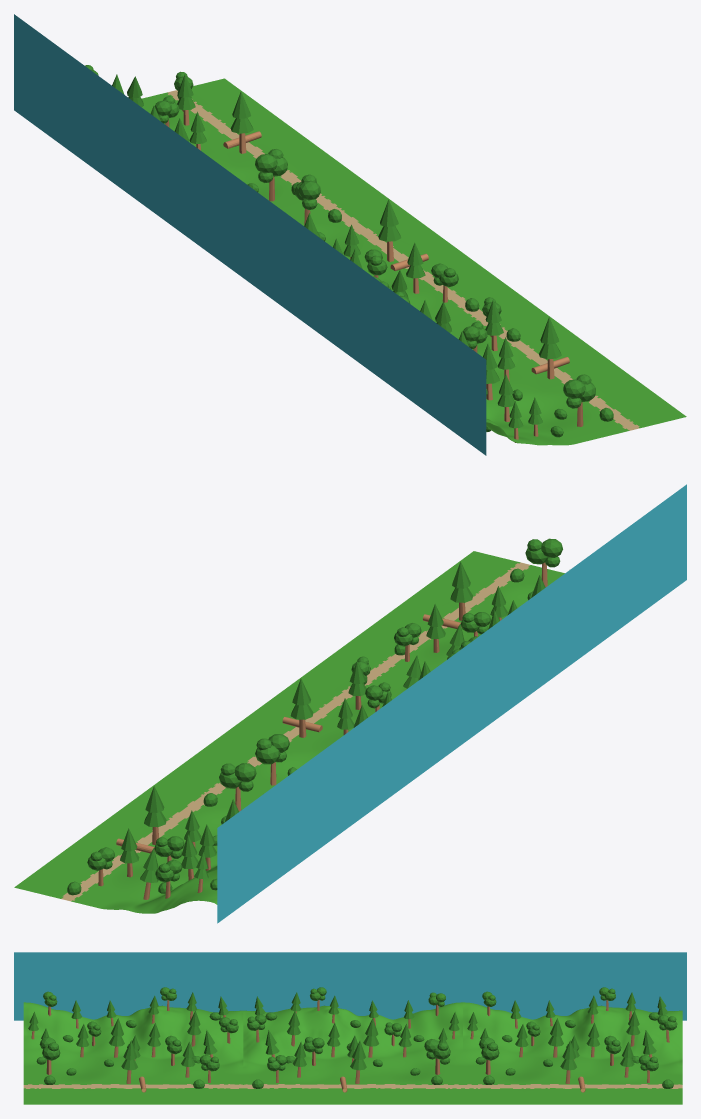
Rendered from TDS-EnvironmentPrototypeFlippedNormals.fbx.
3 renders of one model, top to bottom at view 1: azimuth 30°, elevation 25°; view 2: azimuth 150°, elevation 25°; view 3: azimuth 270°, elevation 25°, orthographic. The views are drawn at different scales.
Parts seen in each view (by area): view 1: Plane, Terrain.001, Terrain.002, Terrain, OakTree.013, OakTree.020, PineTree.030, PineTree.004, PineTree, OakTree.006; view 2: Plane, Terrain.002, Terrain, Terrain.001, OakTree.020, OakTree.013, OakTree.006, PineTree, PineTree.030, PineTree.004; view 3: Plane, Terrain.001, Terrain.002, Terrain, OakTree.006, OakTree.013, OakTree.020, PineTree.004, PineTree.030, PineTree, OakTree.002, PineTree.032 (+16 smaller).
Part boxes in pixels (bbox=[...]): Plane: bbox=[14, 14, 486, 455]; Terrain.001: bbox=[450, 304, 686, 445]; Terrain.002: bbox=[142, 78, 378, 213]; Terrain: bbox=[287, 191, 532, 323]; OakTree.013: bbox=[563, 374, 595, 426]; OakTree.020: bbox=[255, 149, 287, 201]; PineTree.030: bbox=[230, 91, 253, 153]; PineTree.004: bbox=[539, 317, 561, 379]; PineTree: bbox=[378, 199, 400, 261]; OakTree.006: bbox=[294, 174, 320, 225]; Plane: bbox=[217, 484, 686, 923]; Terrain.002: bbox=[14, 775, 258, 913]; Terrain: bbox=[168, 663, 406, 797]; Terrain.001: bbox=[321, 551, 564, 683]; OakTree.020: bbox=[219, 763, 256, 811]; OakTree.013: bbox=[525, 538, 562, 586]; OakTree.006: bbox=[255, 734, 289, 785]; PineTree: bbox=[290, 678, 313, 737]; PineTree.030: bbox=[144, 786, 166, 844]; PineTree.004: bbox=[450, 561, 472, 620]; Plane: bbox=[14, 952, 686, 1020]; Terrain.001: bbox=[23, 1002, 243, 1104]; Terrain.002: bbox=[463, 1002, 682, 1104]; Terrain: bbox=[243, 1002, 462, 1104]; OakTree.006: bbox=[424, 1039, 450, 1074]; OakTree.013: bbox=[40, 1037, 60, 1074]; OakTree.020: bbox=[479, 1037, 499, 1074]; PineTree.004: bbox=[121, 1040, 137, 1083]; PineTree.030: bbox=[560, 1040, 576, 1083]; PineTree: bbox=[350, 1040, 366, 1083]; OakTree.002: bbox=[303, 1036, 324, 1065]; PineTree.032: bbox=[548, 1018, 563, 1057].
Bounding box in the file's own units: 10347 × 5599 × 40784.
